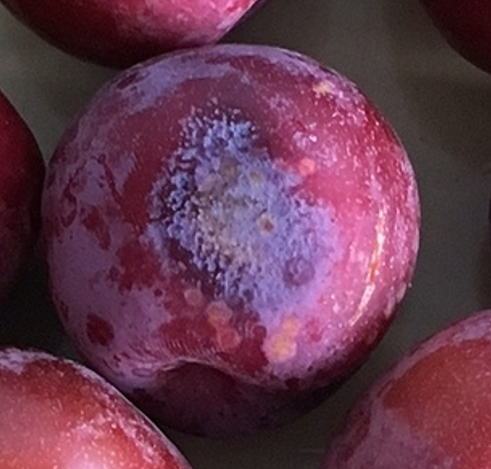plum_B: (40, 44, 420, 438)
